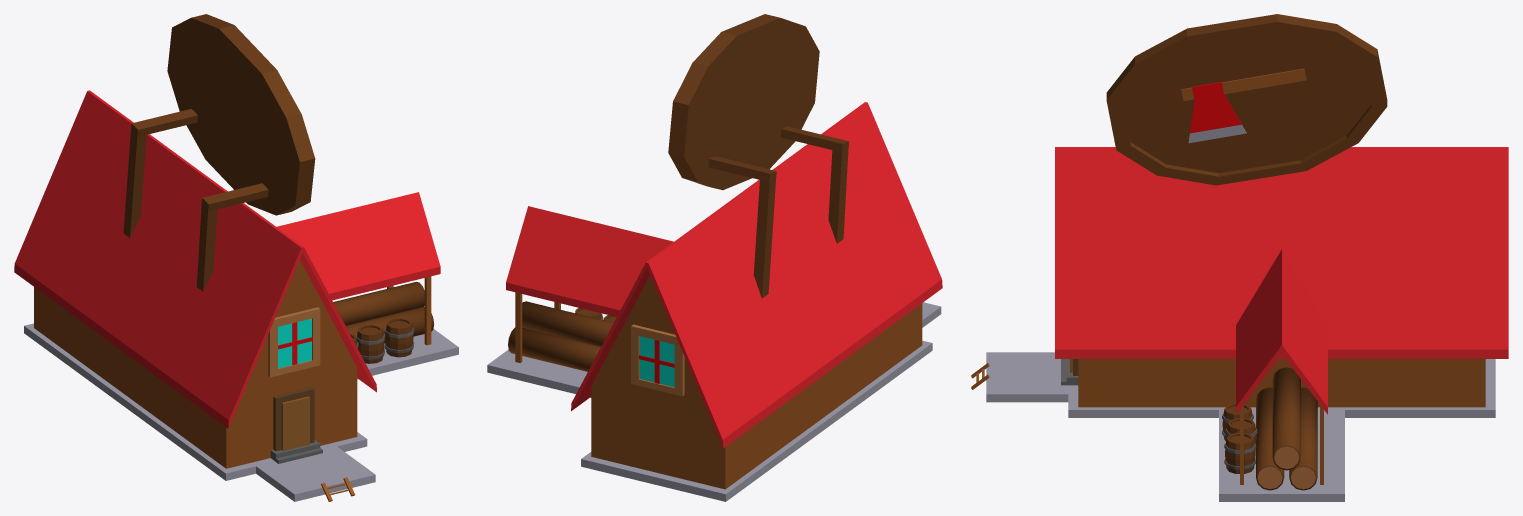
Rendered from woodcutter house.fbx.
The picture shows the model from 3 angles, left to right: view 1: azimuth 30°, elevation 25°; view 2: azimuth 150°, elevation 25°; view 3: azimuth 270°, elevation 25°; orthographic projection. The views are drawn at different scales.
Parts seen in each view (by area): view 1: woodcutter house; view 2: woodcutter house; view 3: woodcutter house.
Part boxes in pixels (x1,y1,x2,y2): woodcutter house: (14,14,458,501); woodcutter house: (487,14,942,501); woodcutter house: (971,14,1508,501).
Size of the model in its own units: 7.01 by 7.82 by 10.02.
